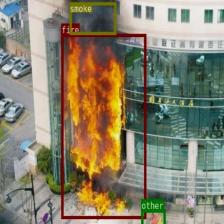fire: (61, 33, 145, 218)
smoke: (69, 2, 116, 34)
